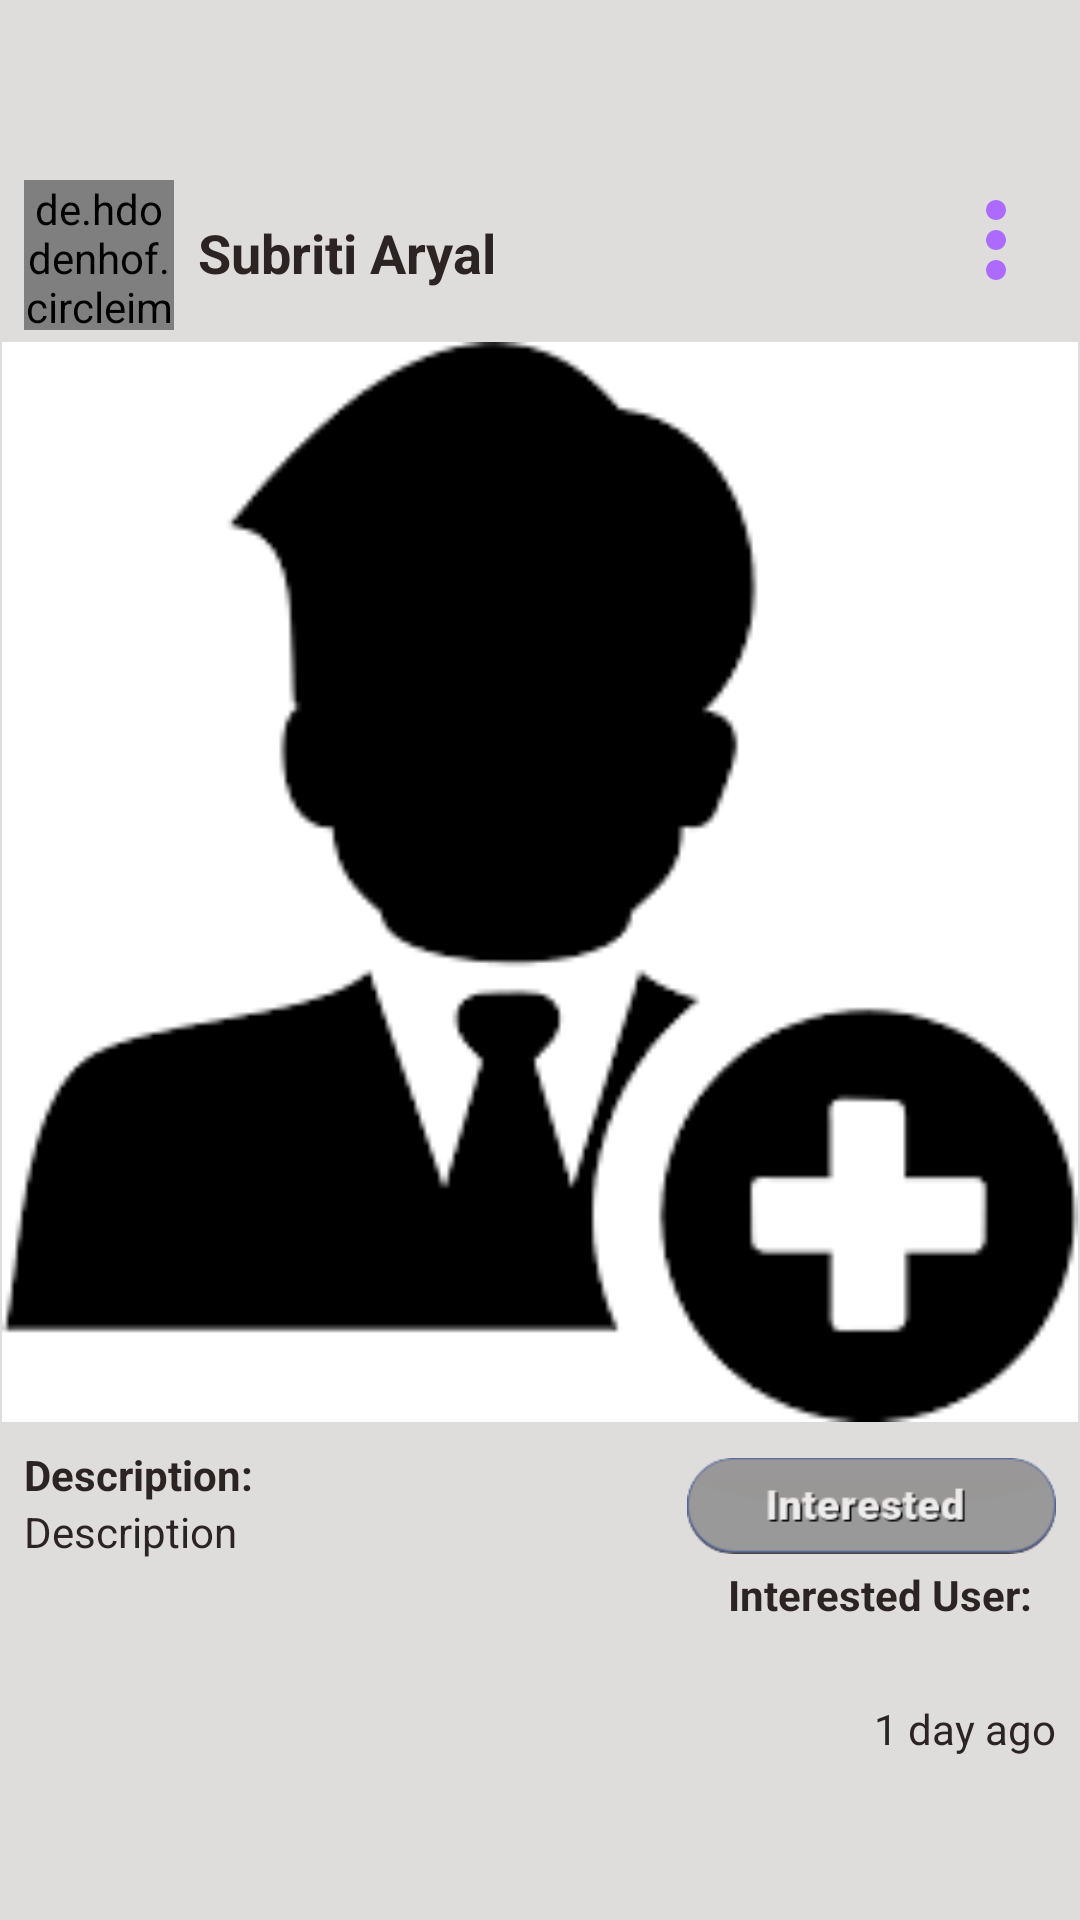

Where icons sit on this 1080×1920 app screen, as (x1, y1, x2, y2):
more vert: (986, 200, 1006, 280)
